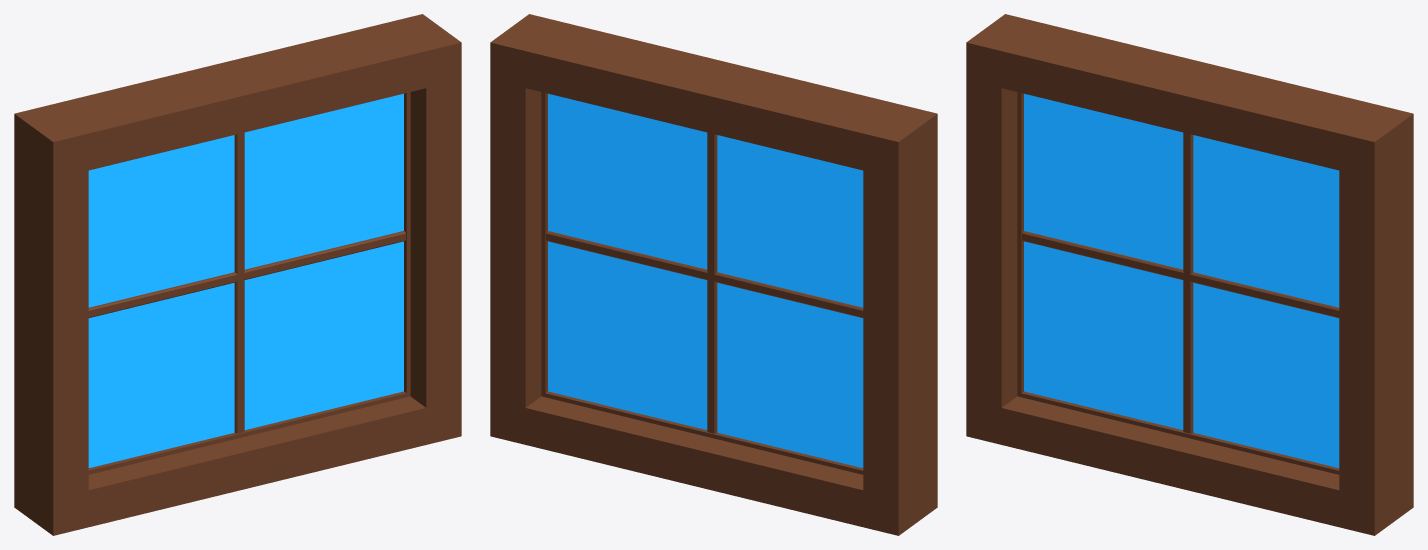
The model's file is janela_quadrada_cruz_madeira.glb.
3 renders of one model, left to right at view 1: azimuth 30°, elevation 25°; view 2: azimuth 150°, elevation 25°; view 3: azimuth 330°, elevation 25°, orthographic.
Visible parts, largest first — view 1: janela_quadrada_cruz_madeira; view 2: janela_quadrada_cruz_madeira; view 3: janela_quadrada_cruz_madeira.
Boxes of the visible parts, x1=… form: janela_quadrada_cruz_madeira: x1=14, y1=14, x2=461, y2=535; janela_quadrada_cruz_madeira: x1=490, y1=14, x2=937, y2=535; janela_quadrada_cruz_madeira: x1=966, y1=14, x2=1413, y2=535.
Bounding box in the file's own units: 1.27 × 1.17 × 0.21.
